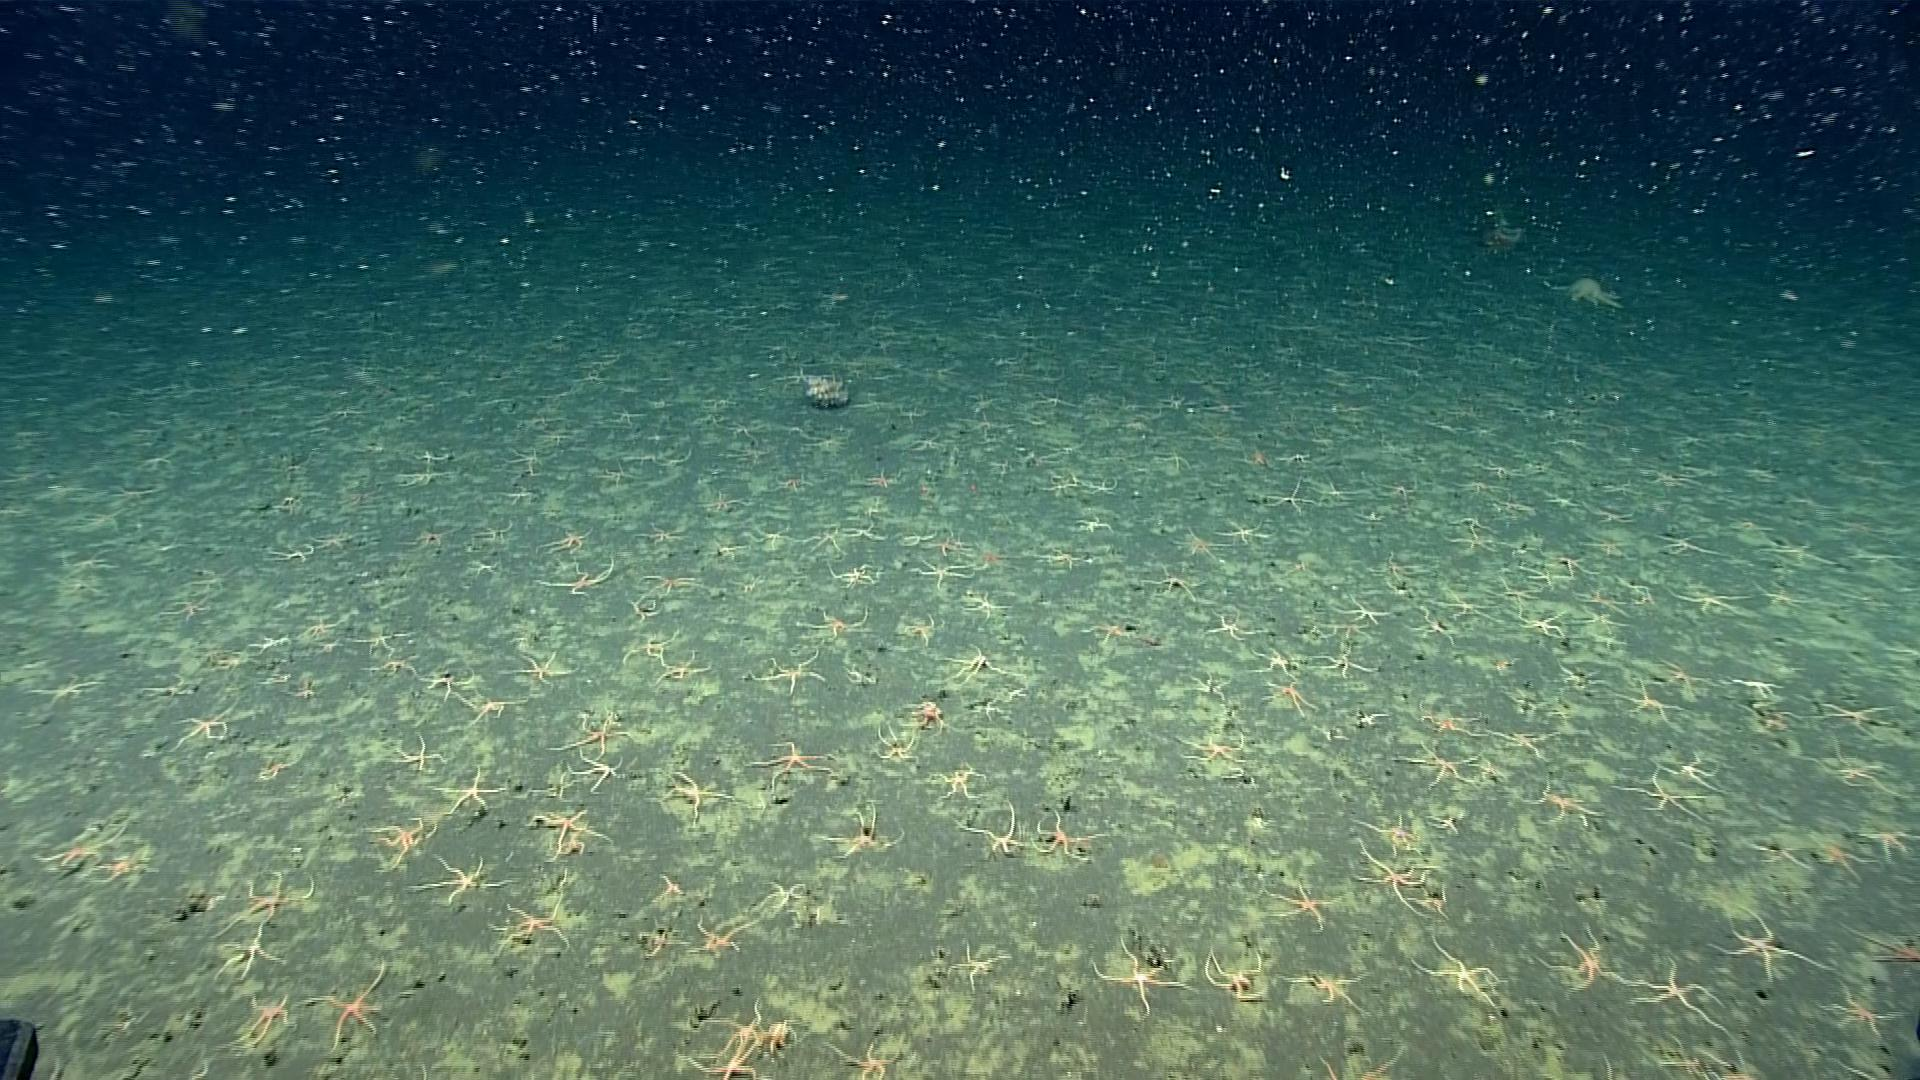brittle_sea_star: (1706, 905, 1833, 978), (1089, 932, 1196, 1018), (1618, 953, 1735, 1030), (294, 964, 389, 1048), (206, 870, 316, 939), (1410, 932, 1507, 1009), (1530, 922, 1633, 990), (1352, 835, 1431, 922), (696, 997, 795, 1056), (1614, 766, 1717, 823), (405, 852, 513, 902), (29, 823, 124, 876), (1821, 977, 1902, 1039), (740, 740, 841, 787), (527, 803, 612, 860), (1279, 963, 1373, 1013), (1803, 740, 1887, 795), (824, 806, 905, 862), (223, 992, 293, 1056), (367, 814, 438, 877), (651, 767, 741, 818), (211, 919, 287, 977), (1387, 740, 1480, 787), (495, 637, 575, 691), (489, 895, 568, 949), (955, 800, 1030, 856), (1265, 878, 1341, 932), (676, 1035, 771, 1079), (546, 711, 630, 760), (1035, 807, 1109, 862), (1611, 676, 1691, 728), (429, 770, 512, 819), (1204, 945, 1270, 1005), (1520, 779, 1602, 827), (1353, 807, 1431, 856), (534, 554, 618, 596), (753, 649, 829, 695), (170, 703, 239, 752), (944, 943, 1011, 992), (1414, 699, 1489, 741), (1663, 748, 1727, 795), (938, 644, 1009, 686), (691, 911, 757, 956), (1176, 728, 1250, 767), (822, 1038, 893, 1079), (1853, 928, 1919, 972), (566, 753, 628, 798), (1487, 724, 1563, 760), (796, 607, 874, 641), (454, 691, 526, 727), (910, 553, 986, 585), (1675, 585, 1756, 616), (1145, 564, 1208, 603), (1435, 585, 1498, 624), (1200, 608, 1270, 642), (348, 621, 415, 657), (1406, 609, 1460, 653), (38, 675, 104, 711), (1309, 642, 1373, 679), (1333, 591, 1394, 629), (634, 567, 711, 597), (1259, 675, 1317, 715), (1763, 538, 1836, 570), (1263, 476, 1319, 517), (92, 847, 149, 885), (752, 877, 814, 911), (534, 525, 597, 558), (1820, 700, 1895, 728), (622, 636, 691, 666), (634, 922, 687, 960), (928, 762, 978, 802), (1171, 526, 1226, 562), (869, 723, 918, 762), (389, 733, 443, 769), (161, 589, 215, 625), (415, 669, 473, 702), (1706, 1047, 1768, 1077), (655, 655, 717, 686), (823, 563, 887, 592), (1817, 840, 1867, 877), (1651, 1042, 1702, 1077), (1494, 570, 1543, 607), (1855, 1051, 1919, 1079), (1213, 516, 1269, 547), (388, 465, 458, 491), (293, 609, 343, 644), (1444, 524, 1498, 555), (1651, 530, 1716, 556), (632, 517, 687, 547), (1758, 583, 1815, 612), (364, 646, 415, 678), (1516, 611, 1569, 641), (243, 629, 295, 658), (502, 444, 549, 476), (799, 525, 845, 556), (1522, 560, 1575, 588), (1079, 620, 1137, 645), (253, 753, 305, 781), (1253, 649, 1302, 678), (1379, 567, 1419, 603), (264, 539, 316, 566), (695, 491, 750, 516), (959, 588, 1004, 618), (898, 612, 938, 646), (1316, 1051, 1364, 1079), (622, 592, 662, 625), (1865, 829, 1913, 855), (592, 460, 641, 485), (841, 518, 887, 545), (405, 525, 450, 551), (905, 698, 947, 725), (1490, 497, 1542, 520), (752, 522, 795, 549), (473, 521, 521, 545), (1592, 628, 1635, 653), (1073, 512, 1116, 537), (207, 649, 251, 673), (1581, 608, 1630, 629), (930, 533, 971, 558), (775, 467, 814, 493), (1374, 477, 1414, 501), (862, 465, 899, 491), (1040, 547, 1084, 568), (1038, 472, 1077, 495), (654, 870, 687, 897), (465, 556, 502, 579), (1083, 476, 1120, 498), (1588, 537, 1631, 555), (988, 455, 1017, 480), (899, 530, 936, 549), (1598, 1052, 1617, 1079)
